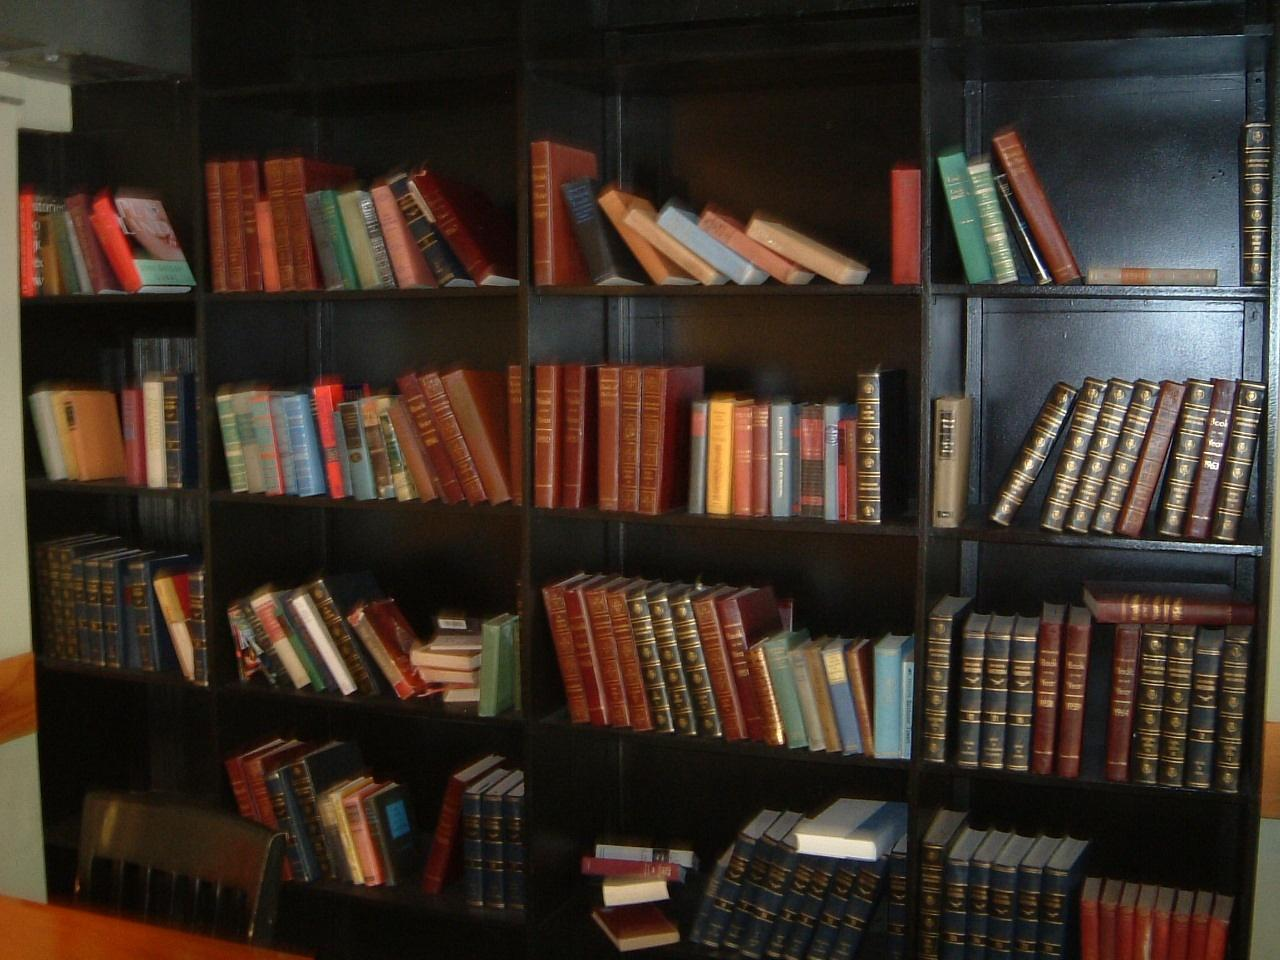Rak: (191, 1, 1279, 959), (17, 129, 195, 932)
